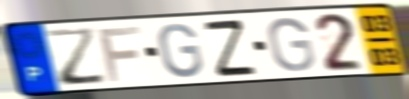2: (313, 11, 365, 74)
F: (96, 24, 144, 84)
G: (265, 15, 318, 73), (156, 22, 206, 80)
Z: (42, 25, 110, 88), (201, 17, 260, 79)
